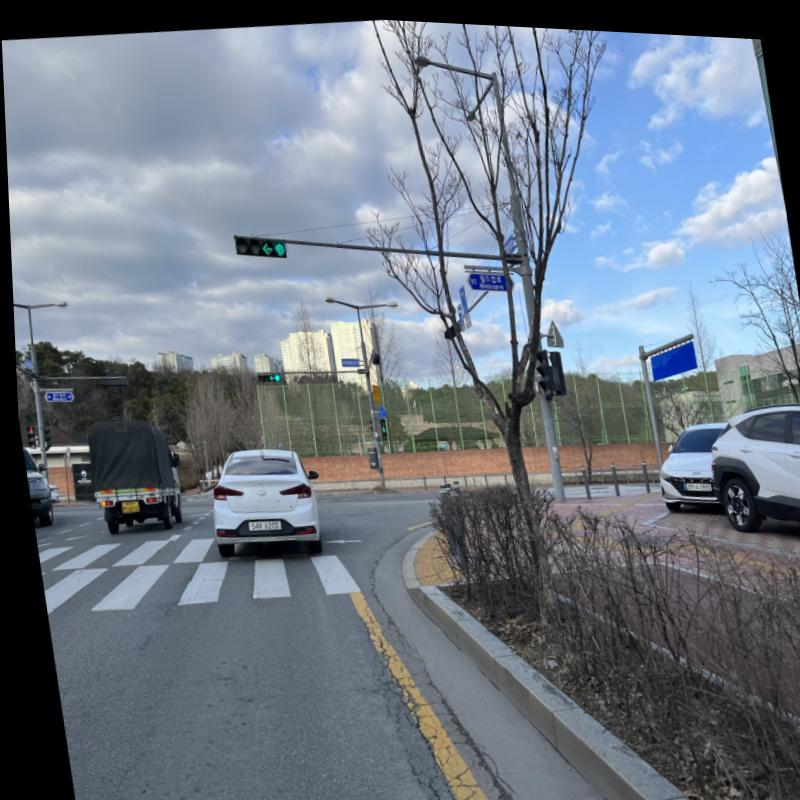green: (271, 239, 284, 254)
left: (258, 238, 272, 254)
